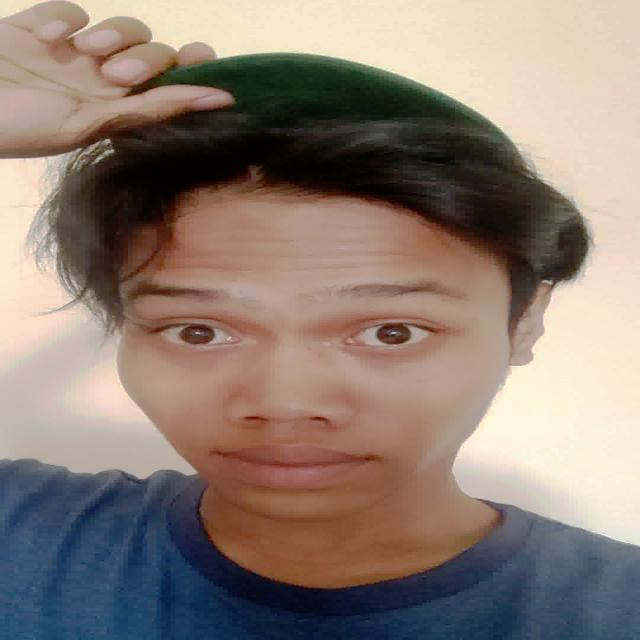TOPI: (128, 52, 530, 134)
